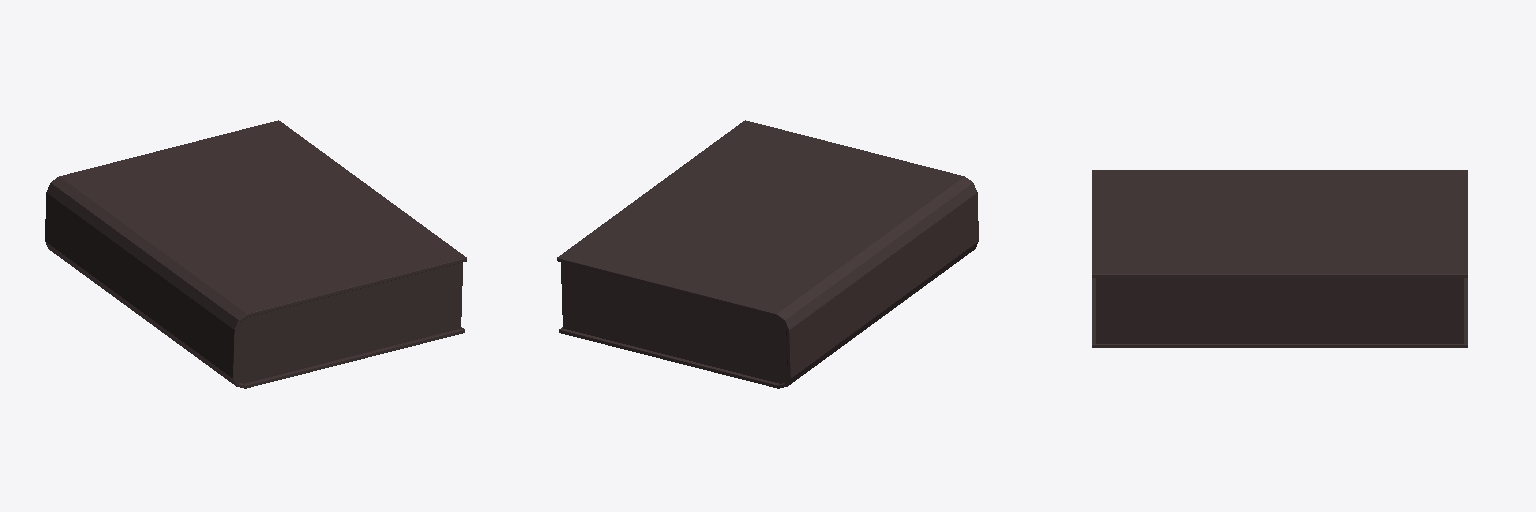
Rendered from book2.obj.
The picture shows the model from 3 angles: view 1: azimuth 30°, elevation 25°; view 2: azimuth 150°, elevation 25°; view 3: azimuth 270°, elevation 25°; orthographic projection.
Parts seen in each view (by area): view 1: polySurface1; view 2: polySurface1; view 3: polySurface1.
Part boxes in pixels (x1,y1,x2,y2): polySurface1: (45, 120, 466, 388); polySurface1: (557, 120, 978, 388); polySurface1: (1092, 170, 1467, 347).
Size of the model in its own units: 71.89 by 22.58 by 100.